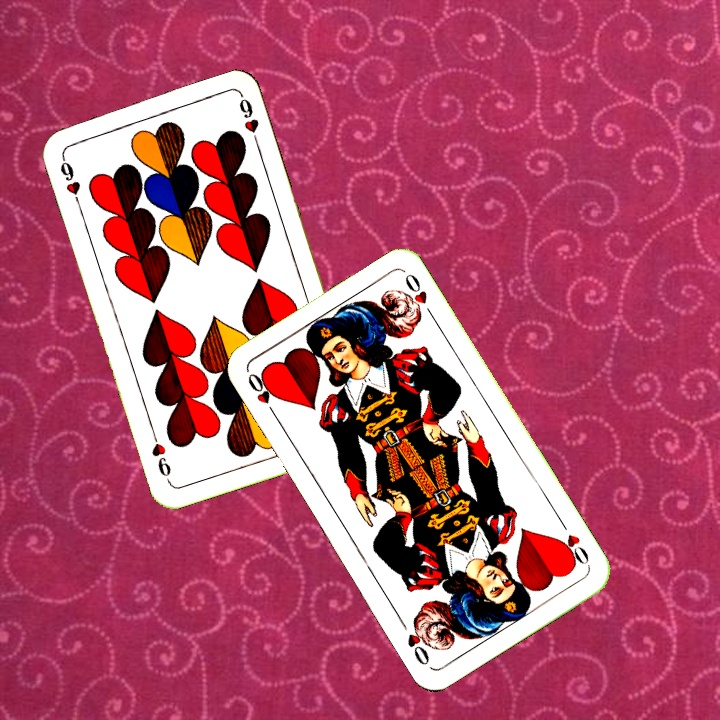H9: (56, 151, 84, 209)
HO: (554, 516, 593, 569), (243, 369, 281, 421)
